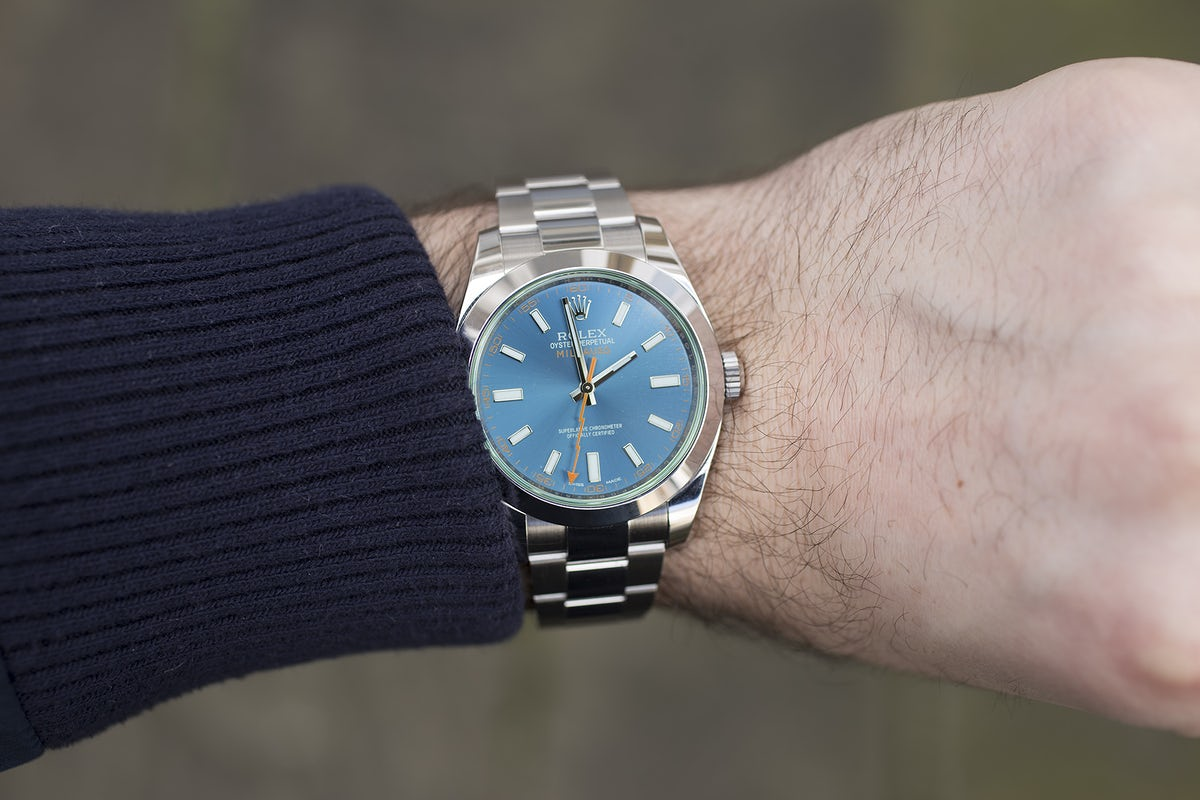clock: (460, 268, 701, 500)
